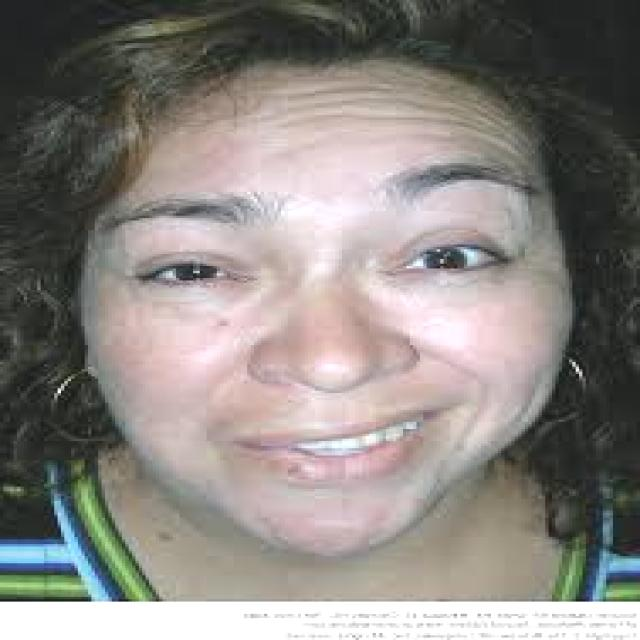stroke_face: (67, 48, 570, 550)
